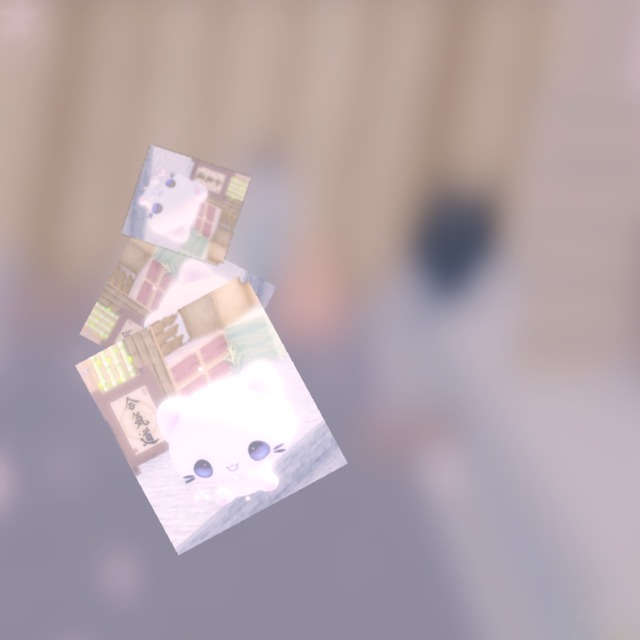urso_branco: (75, 273, 348, 556), (79, 215, 277, 406), (121, 144, 251, 267)
